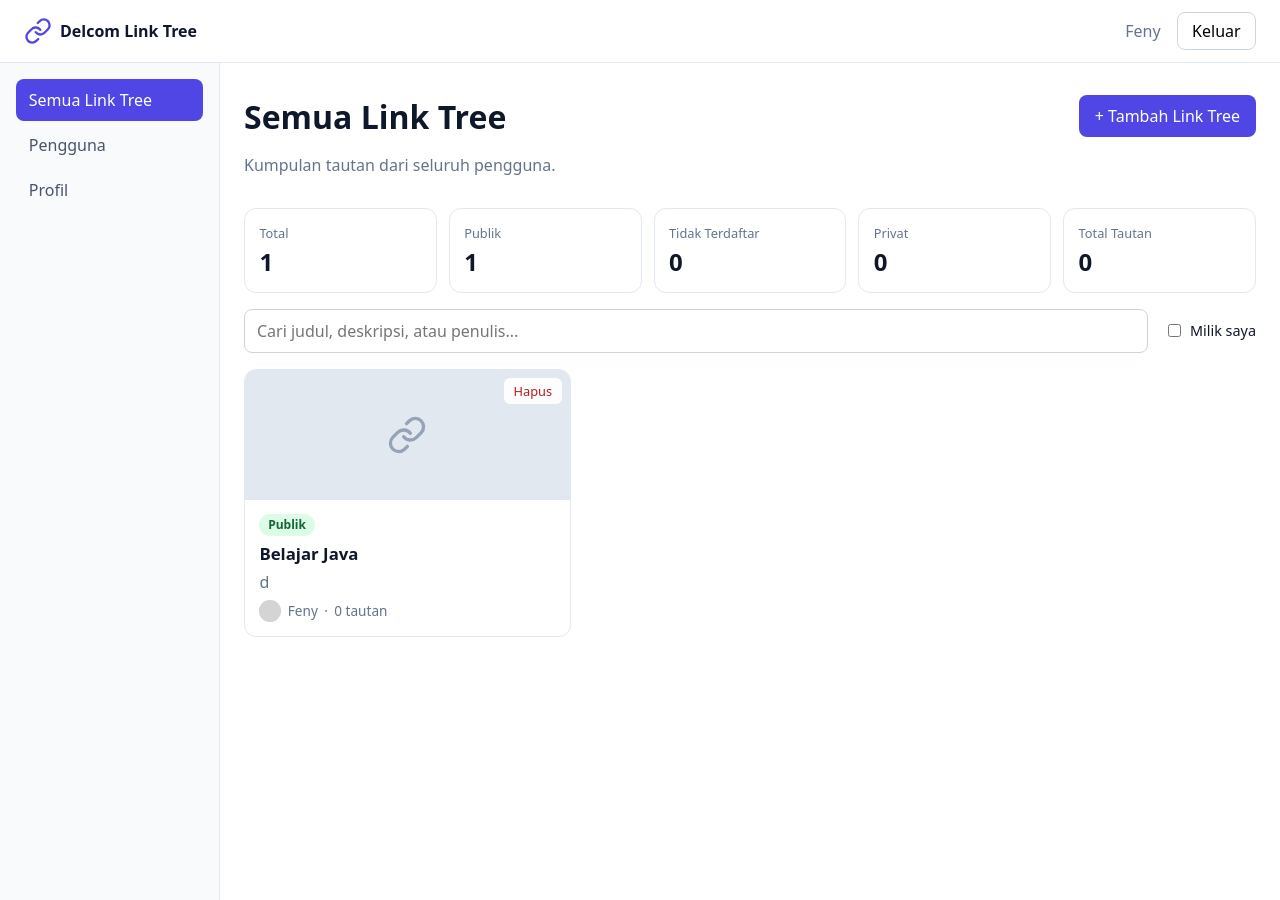
Scenario: App: pengguna login › navigasi lewat sidebar berpindah halaman
Expected: the link "Belajar Java" is shown, [259,542,358,565]
Click the link "Pengguna" at [67, 145], box [29,134,106,156]
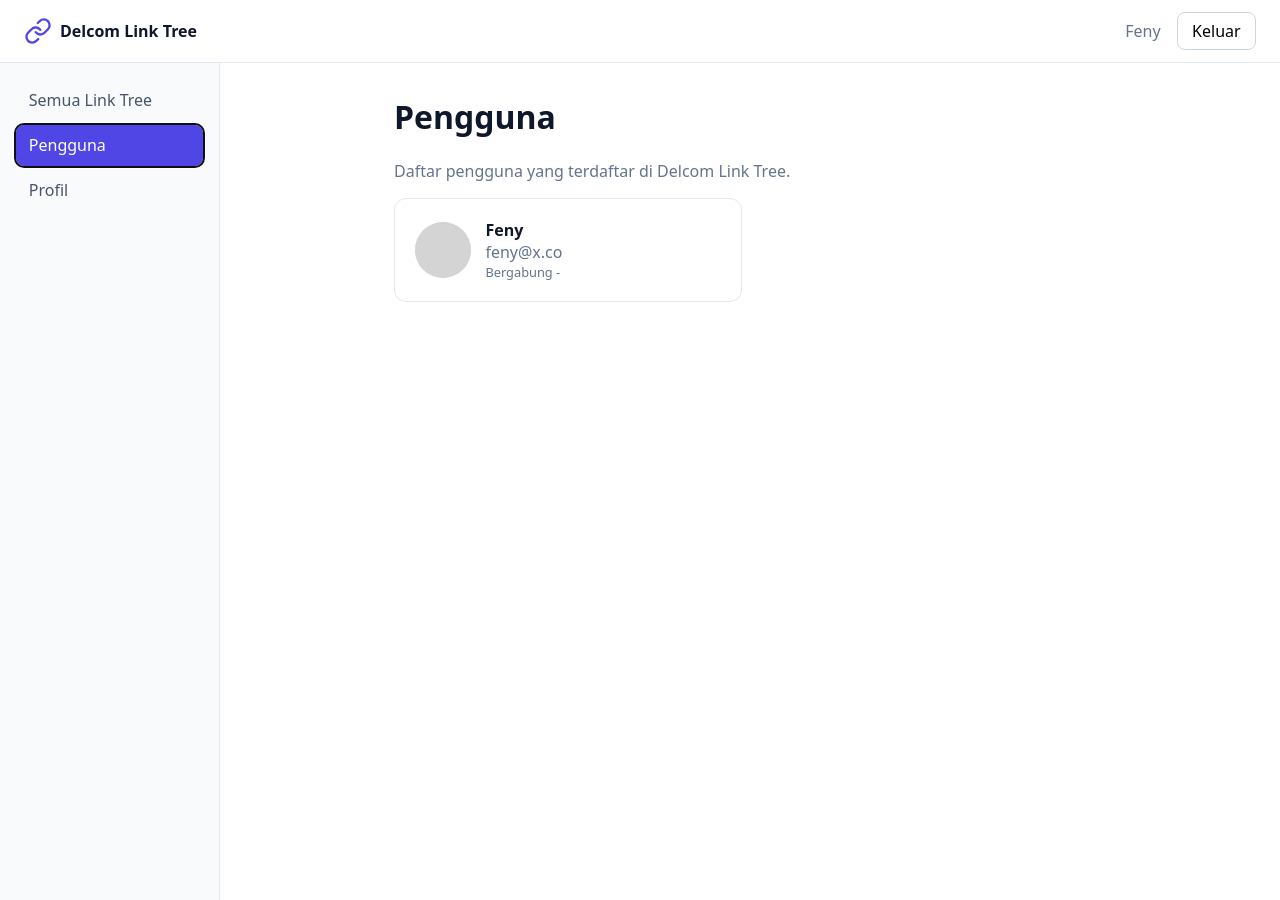
Now the heading "Pengguna" is shown, box [394,95,556,138]
